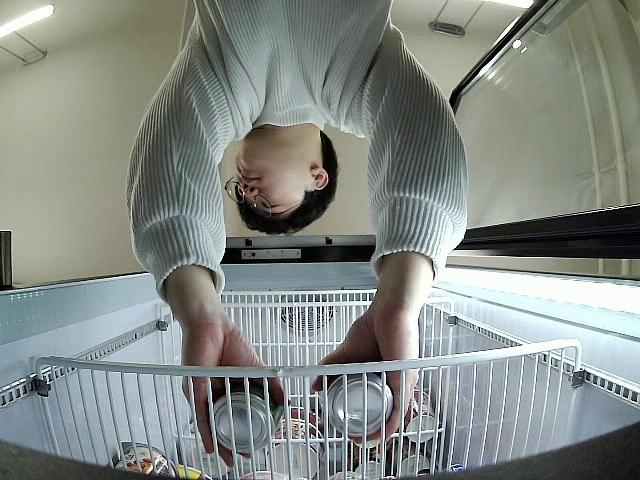00_hand: (306, 301, 421, 442), (182, 319, 291, 467)
12_chilsungCider: (210, 380, 283, 454), (317, 369, 396, 437)
